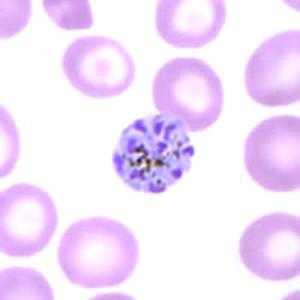Infected: (112, 112, 193, 193)
Uninfected: (59, 215, 140, 290), (153, 56, 223, 132), (61, 33, 134, 100), (238, 210, 300, 284), (244, 27, 300, 107), (244, 113, 300, 193), (0, 184, 58, 259), (155, 0, 226, 49)
